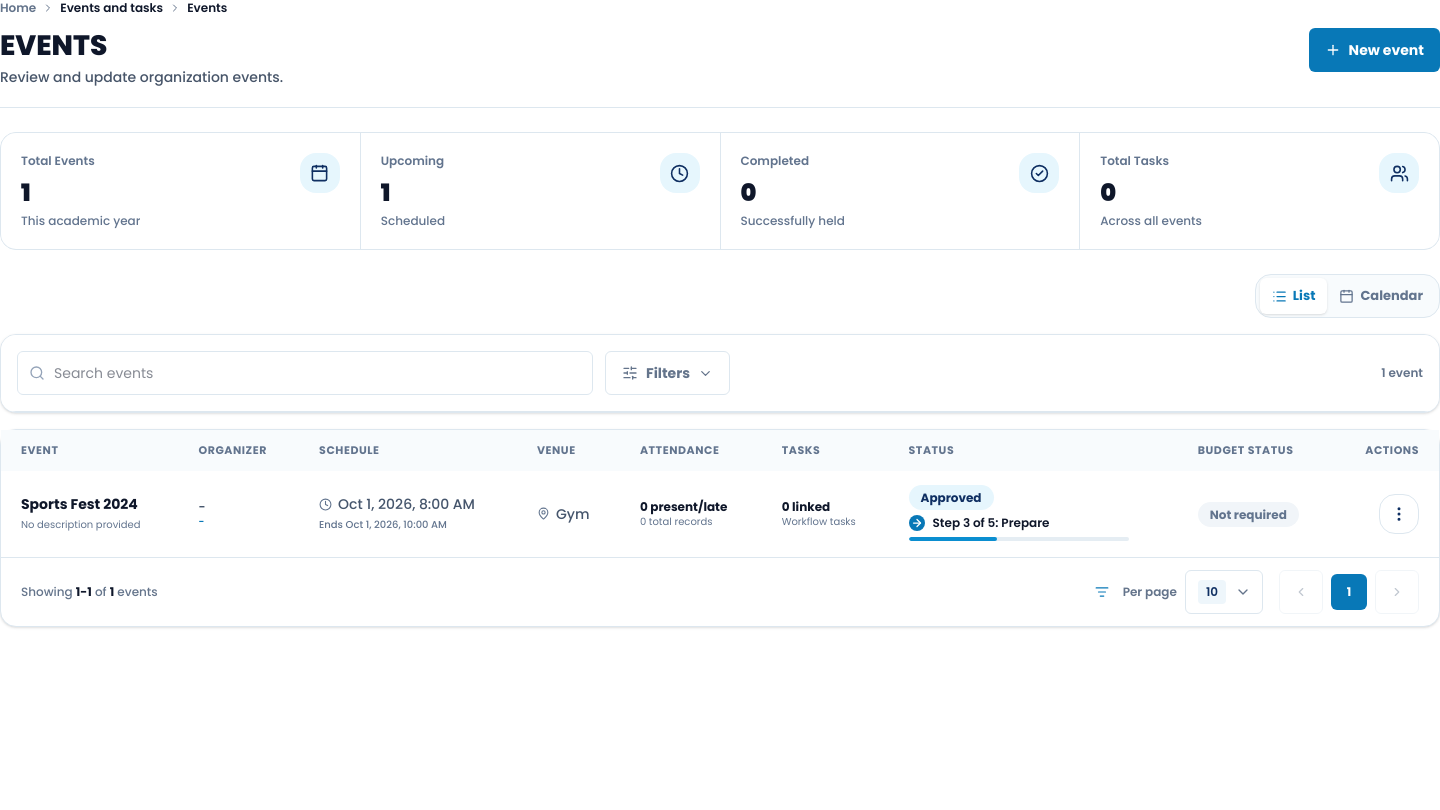
EventsPage delete › states everything an event delete removes
Click the button named "Actions for Sports Fest 2024".
click(1399, 514)  # box [1379,494,1419,534]
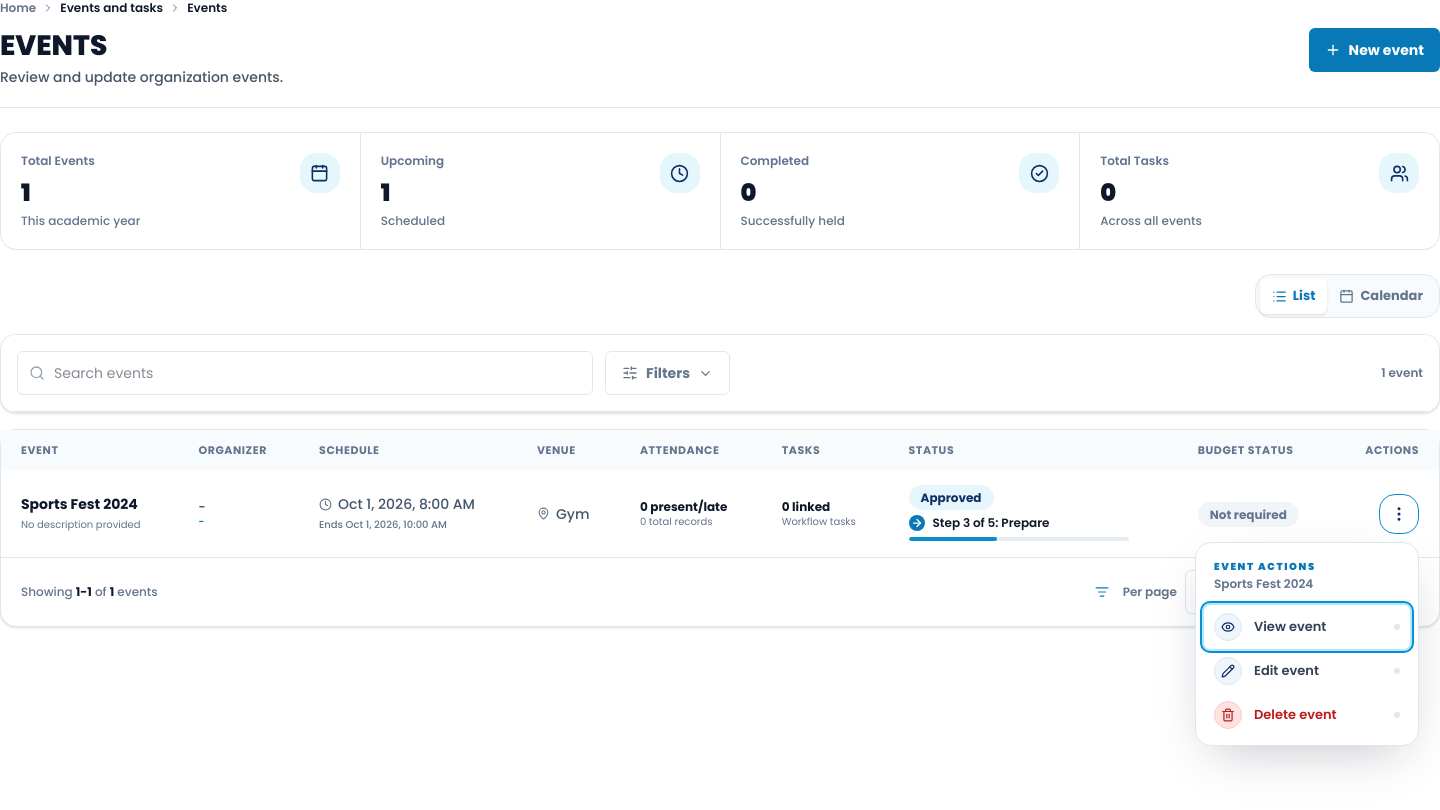
Click the menu item "Delete event".
click(1307, 714)  # box [1204,692,1410,736]
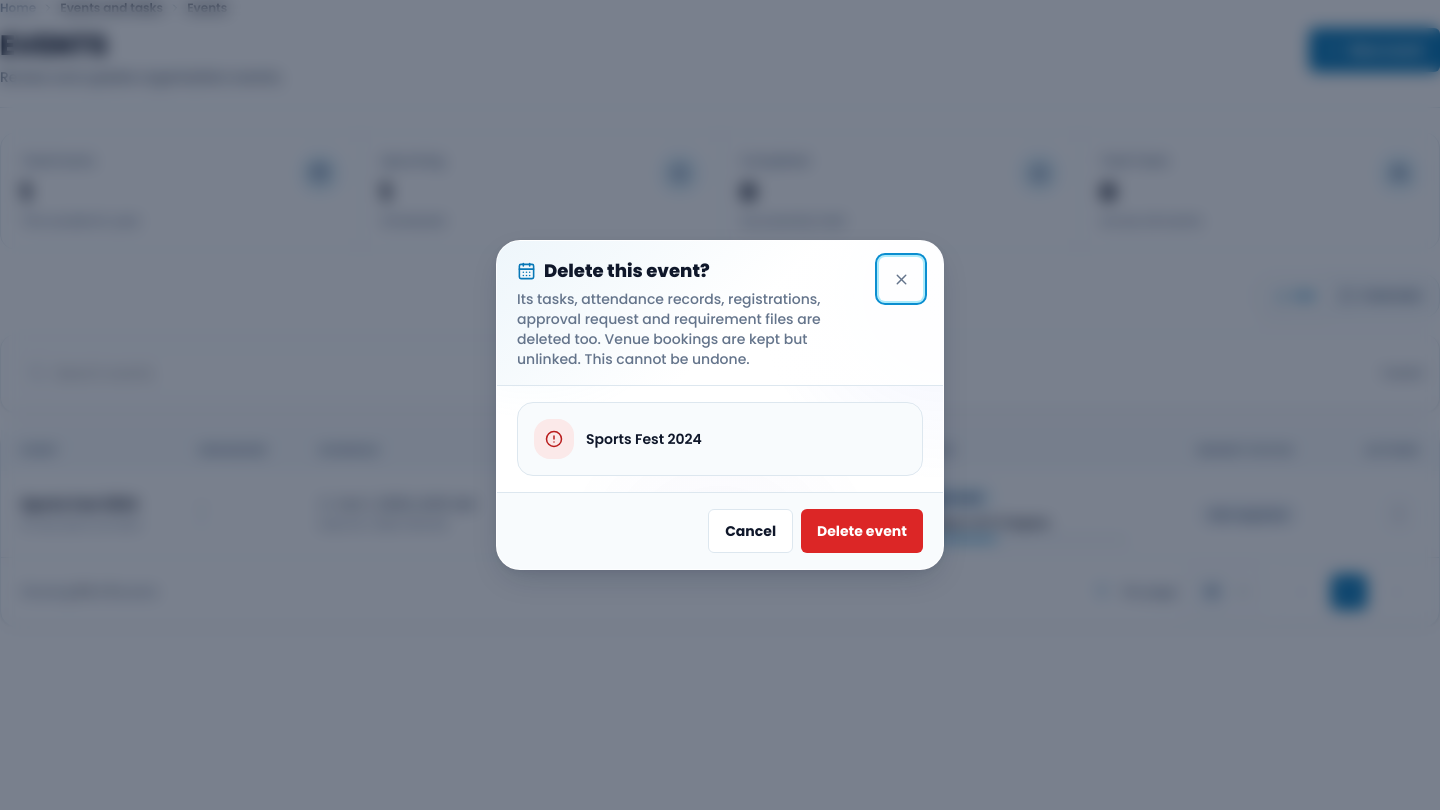
expect the dialog "Delete this event?" shows "tasks, attendance records, registrations, approval request and requirement files are deleted too": met, box [517,289,821,369]
expect the dialog "Delete this event?" shows "Venue bookings are kept but unlinked": met, box [517,289,821,369]
